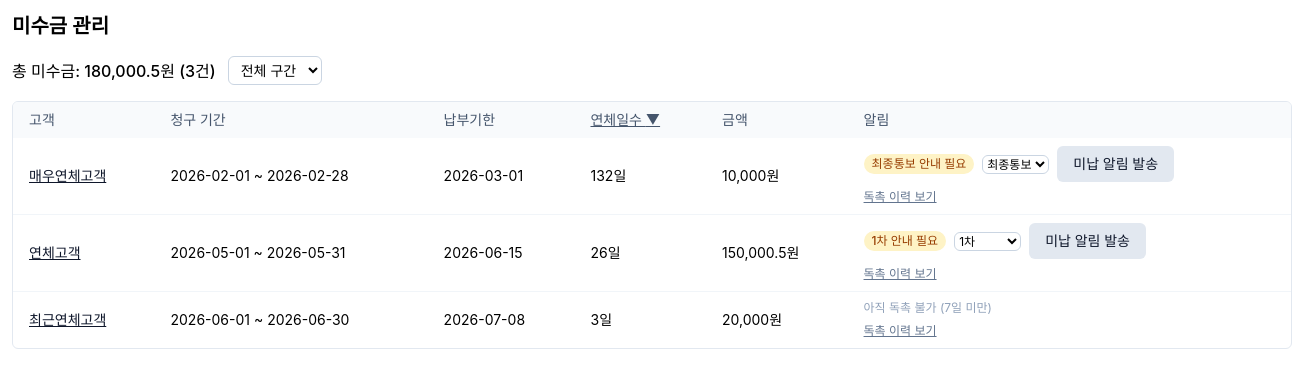
Test: OverdueInvoicesPage › sends the manually selected stage instead of the recommended one
Expected: the link "연체고객" is shown, [29,244,80,261]
Select "최종통보" in the dropdown named "독촉 단계 선택" in the row of "1차" at (988, 241), box [954,232,1021,250]
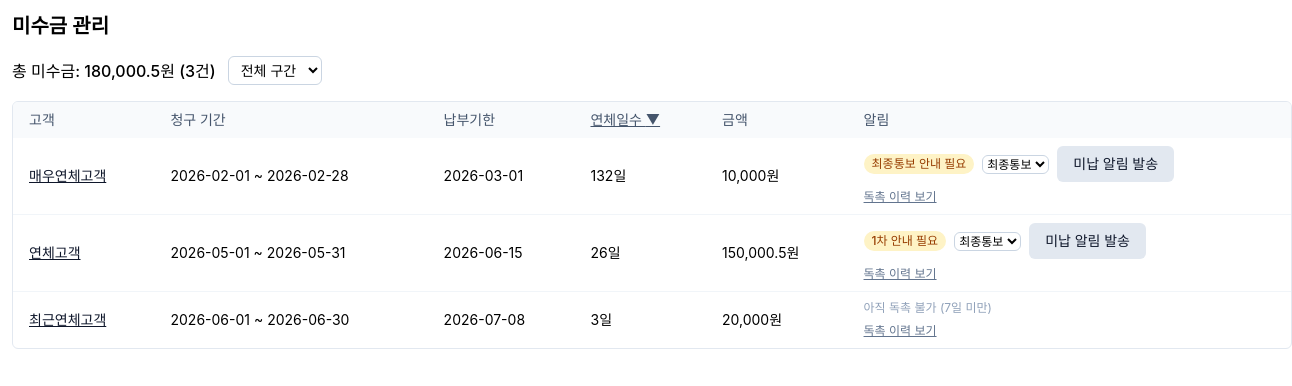
Click the button "미납 알림 발송" in the row of "1차" at (1088, 241), box [1029,223,1146,259]
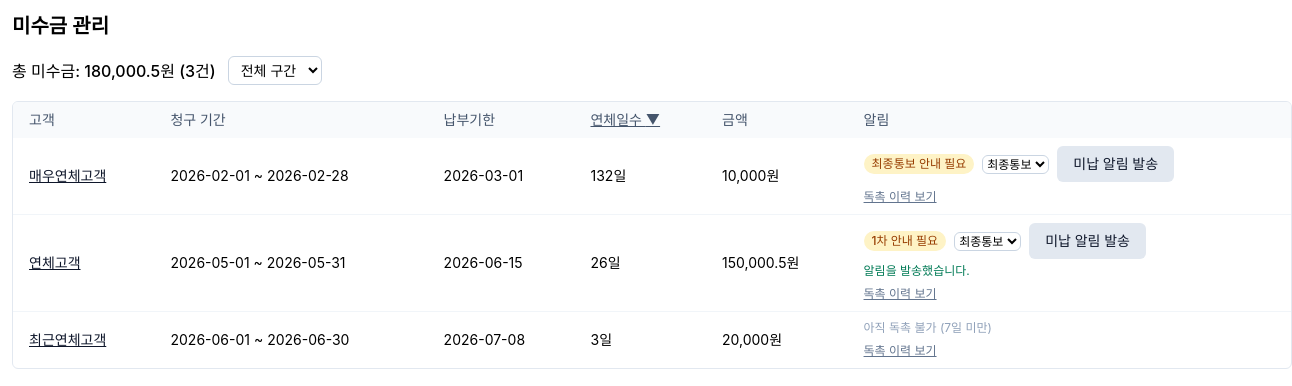
Now the text "알림을 발송했습니다." is shown, box [864,263,970,278]
